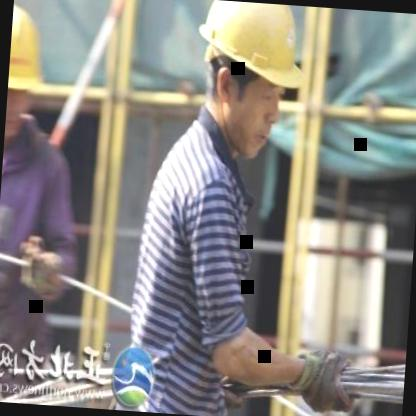helmet: (186, 0, 312, 162), (4, 0, 46, 147)
